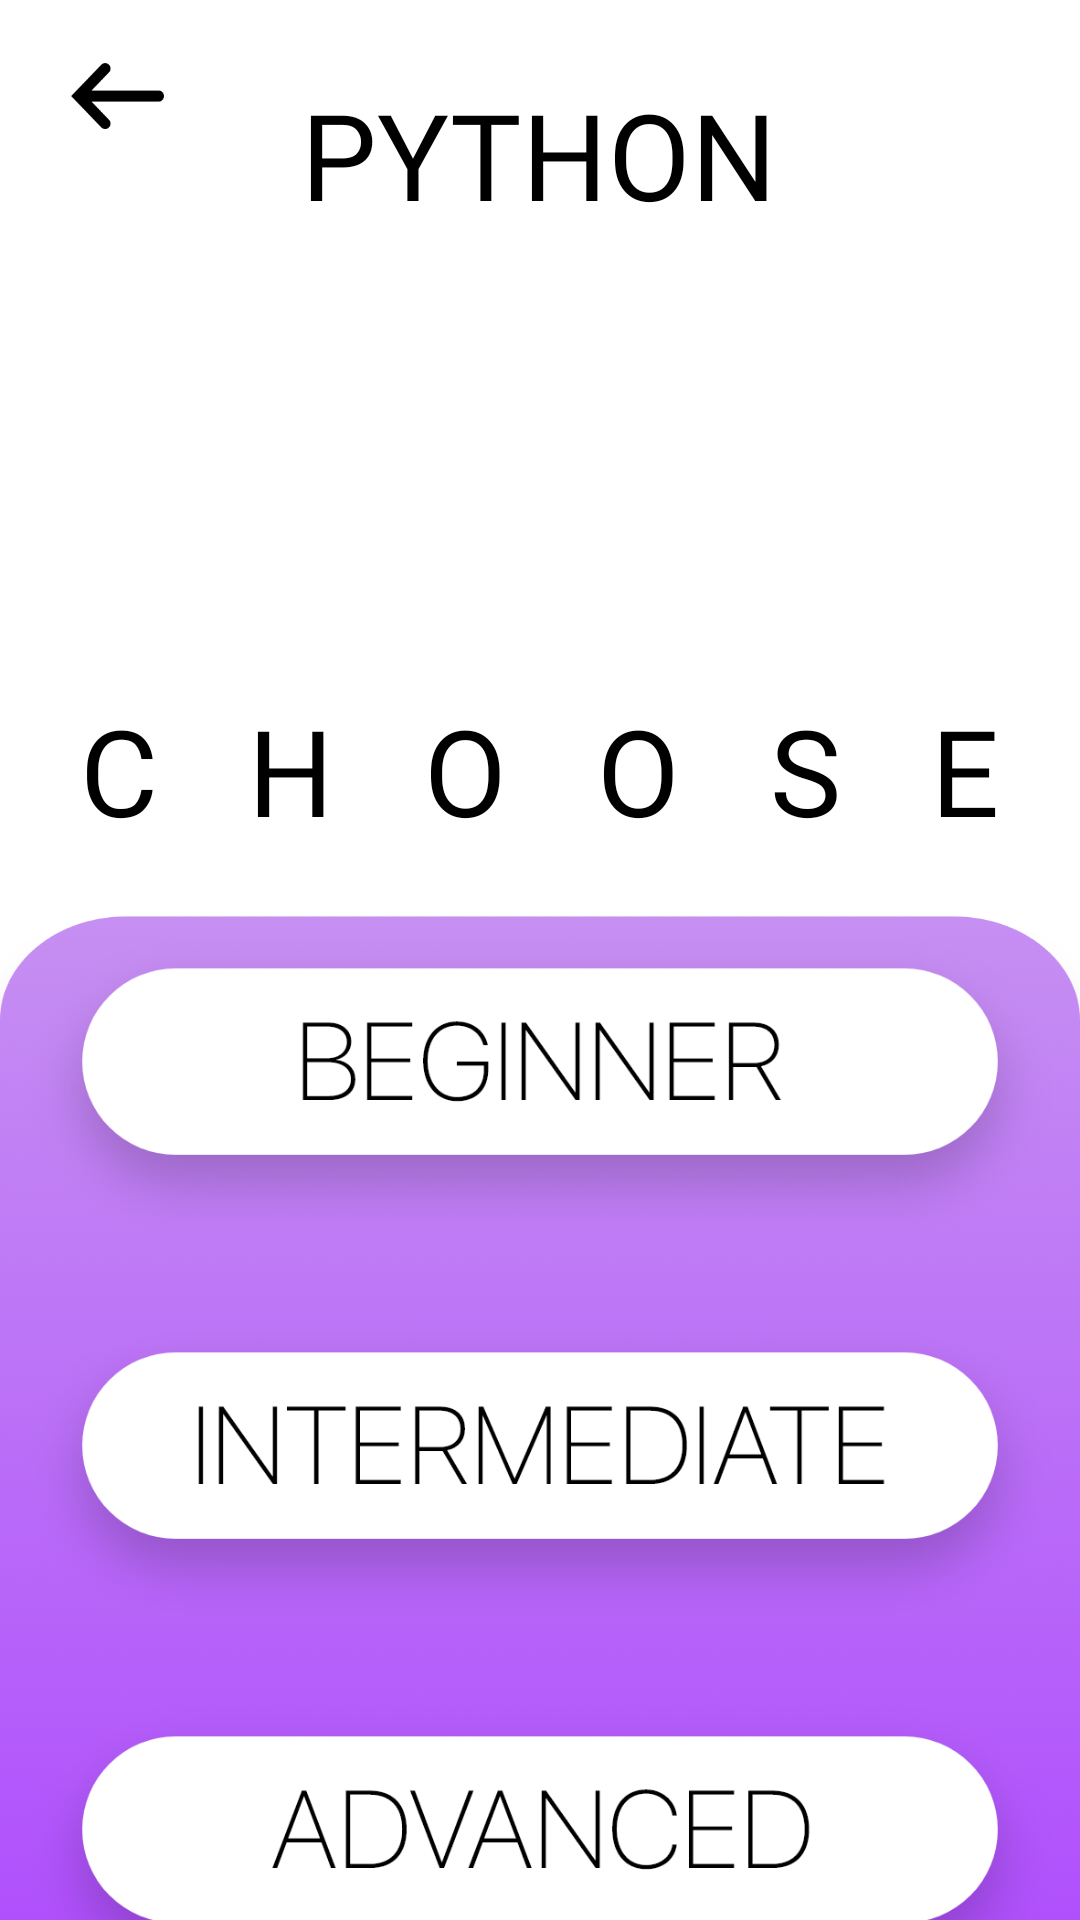

Named icons in this screenshot (1080px×1920px) and their bounding boxes, {"left": x1, "top": y1, "right": x2, "bottom": y2}:
backbtn: {"left": 71, "top": 63, "right": 164, "bottom": 129}
